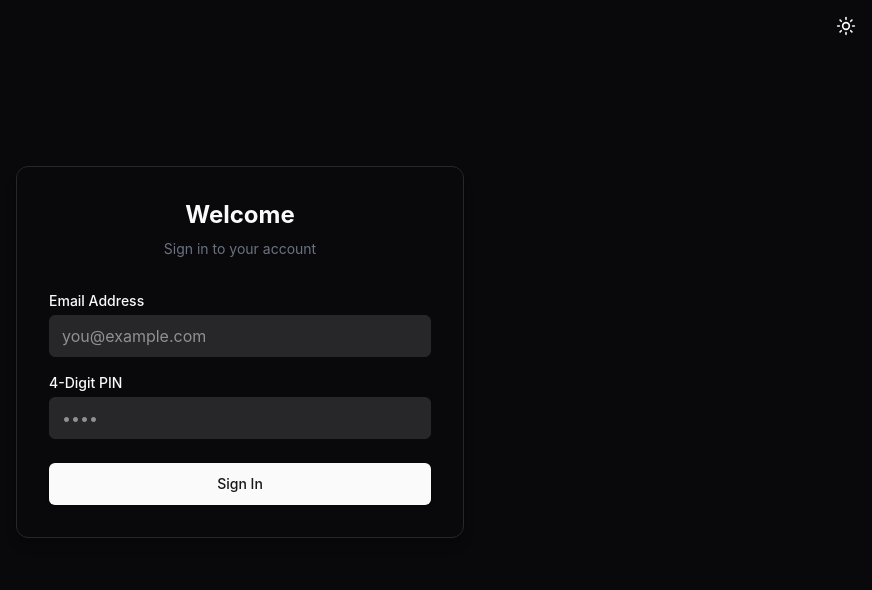
it: LoginPage › should show error for invalid PIN
Step 1. Type "test@example.com" into the field labelled "Email Address" → coordinates (240, 336), box [49,315,431,357]
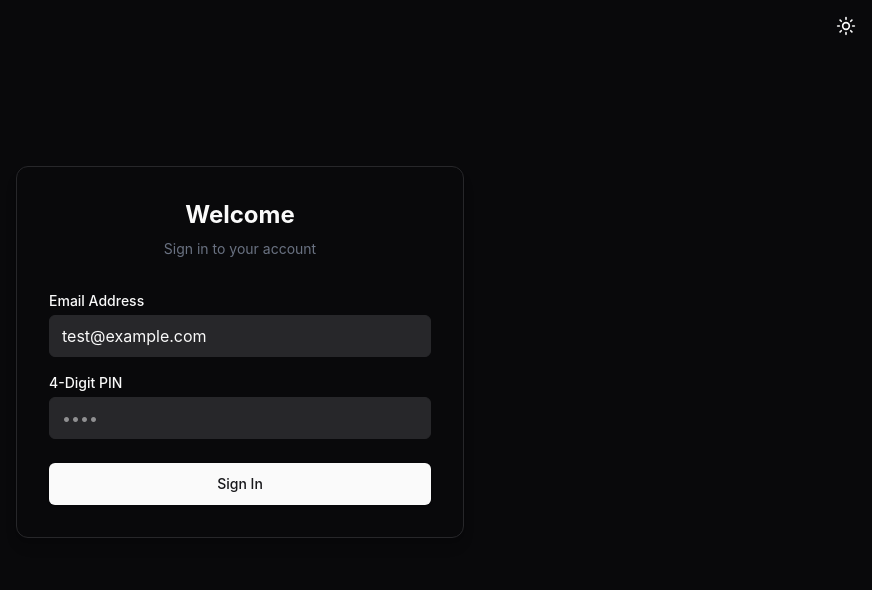
Step 2. Type "123" into the password field labelled "4-Digit PIN" → coordinates (240, 418), box [49,397,431,439]
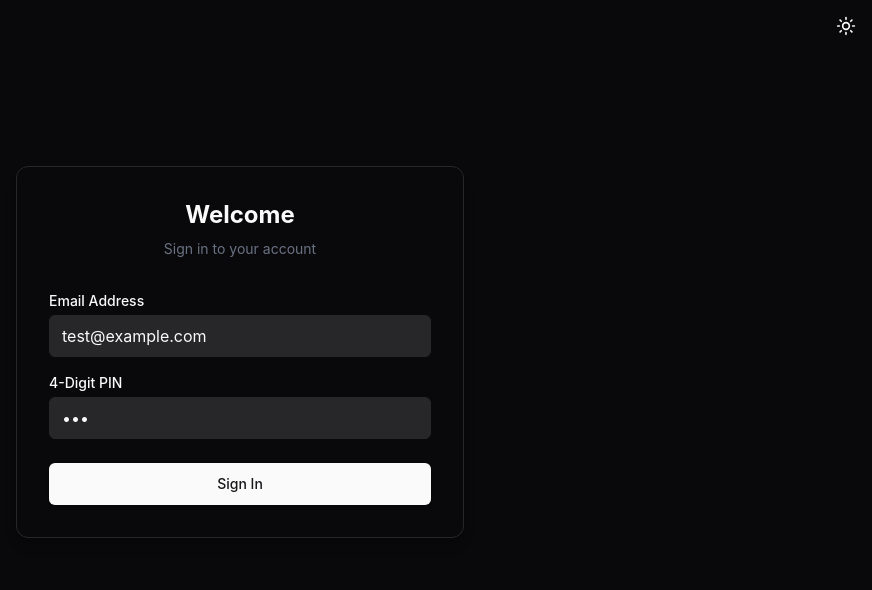
Step 3. Click the button "Sign In" → coordinates (240, 484), box [49,463,431,505]
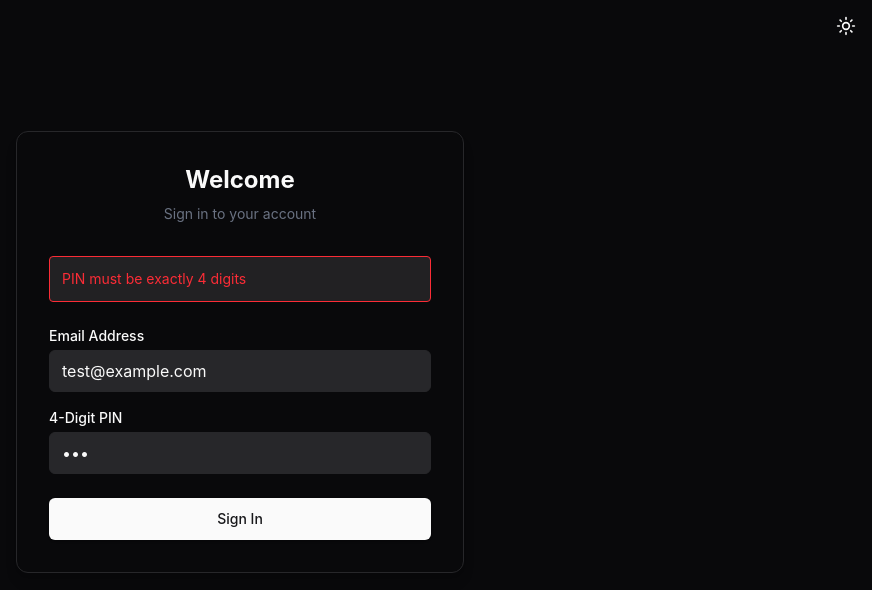
Check: the text "PIN must be exactly 4 digits" is shown, box [49,256,431,302]
